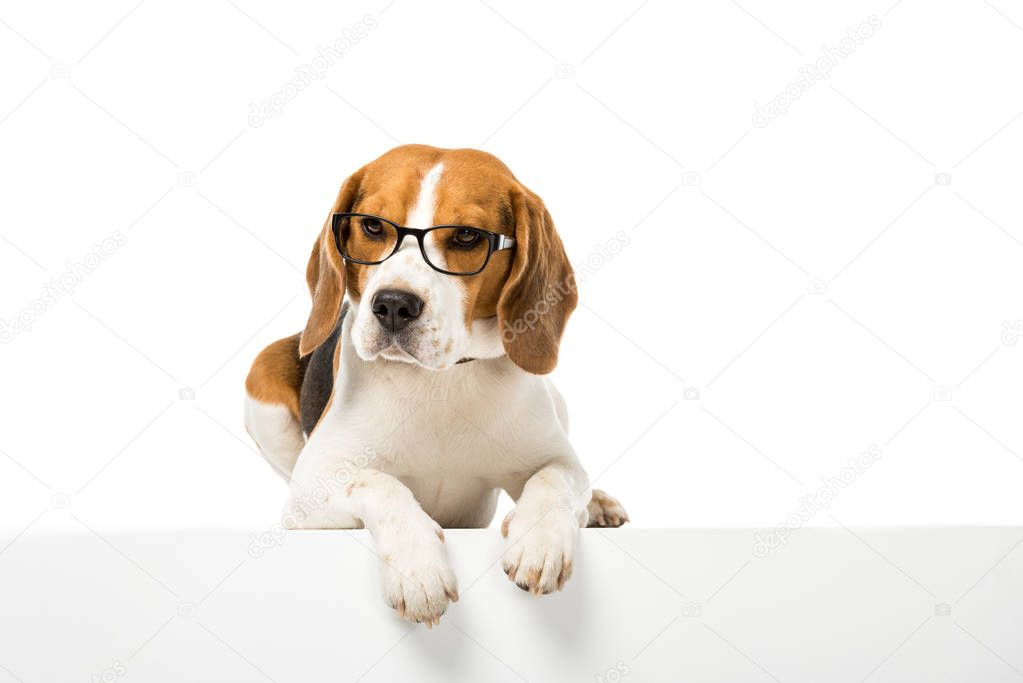dog: (238, 143, 652, 638)
